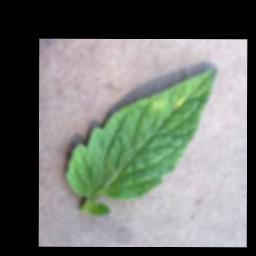Leaf_Mold: (150, 94, 167, 113), (173, 95, 186, 109)
